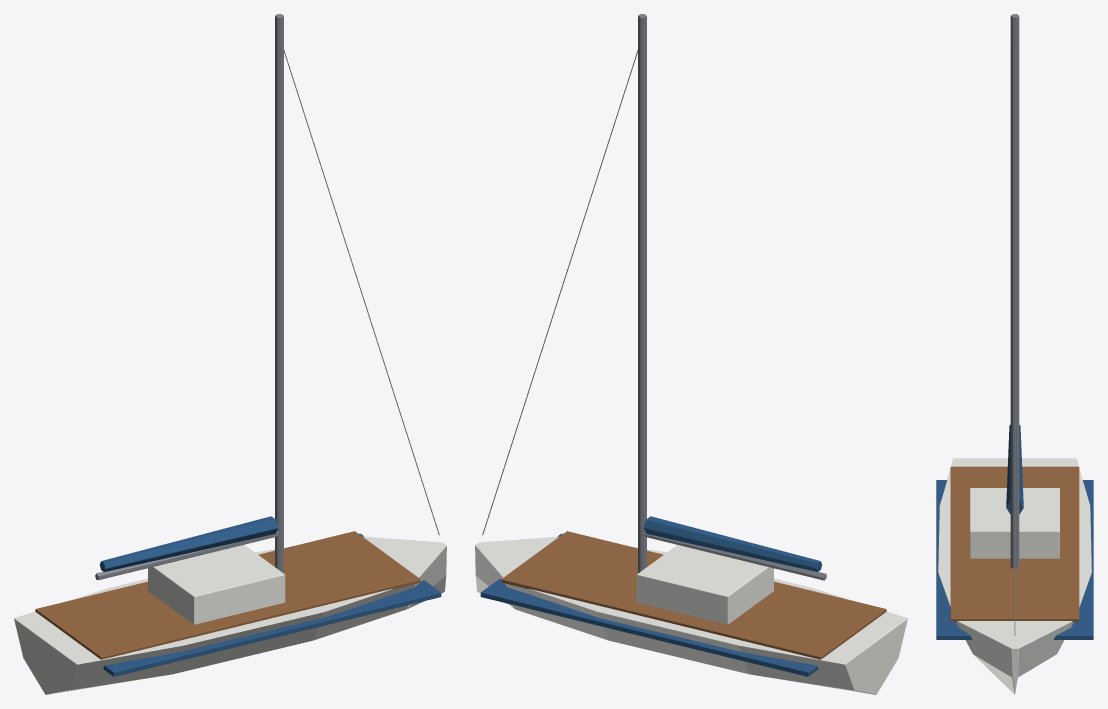
File: segelbat_forto.glb
3 renders of one model, left to right at view 1: azimuth 30°, elevation 25°; view 2: azimuth 150°, elevation 25°; view 3: azimuth 270°, elevation 25°, orthographic. The views are drawn at different scales.
Parts seen in each view (by area): view 1: segelbat_forto; view 2: segelbat_forto; view 3: segelbat_forto.
Boxes of the visible parts, box(x1,y1,x2,y2) form: segelbat_forto: box(14, 14, 446, 694); segelbat_forto: box(475, 14, 907, 694); segelbat_forto: box(936, 14, 1093, 694).
Size of the model in its own units: 7 by 10.55 by 2.45.
